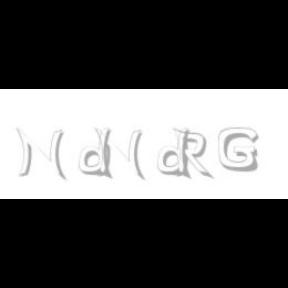G: (218, 128, 258, 172)
N: (94, 128, 144, 180), (16, 128, 64, 180)
R: (173, 128, 211, 180)
d: (79, 128, 116, 180), (158, 128, 195, 180)
